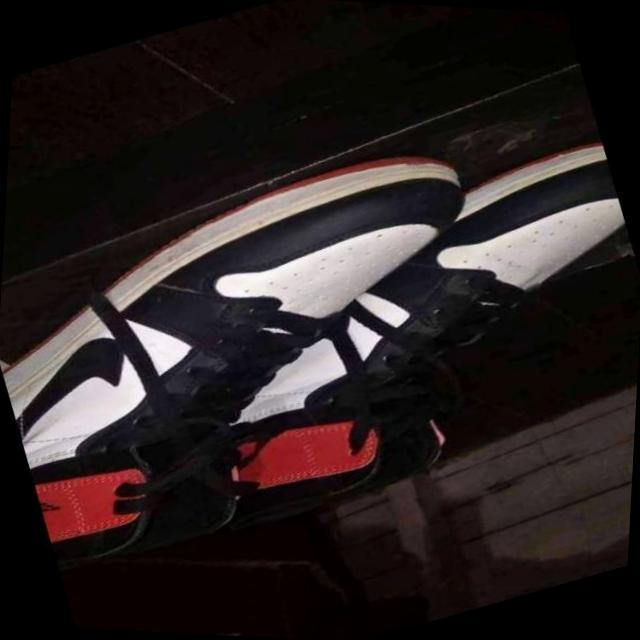nike_fake_jordan: (0, 108, 556, 601), (151, 115, 640, 546)
